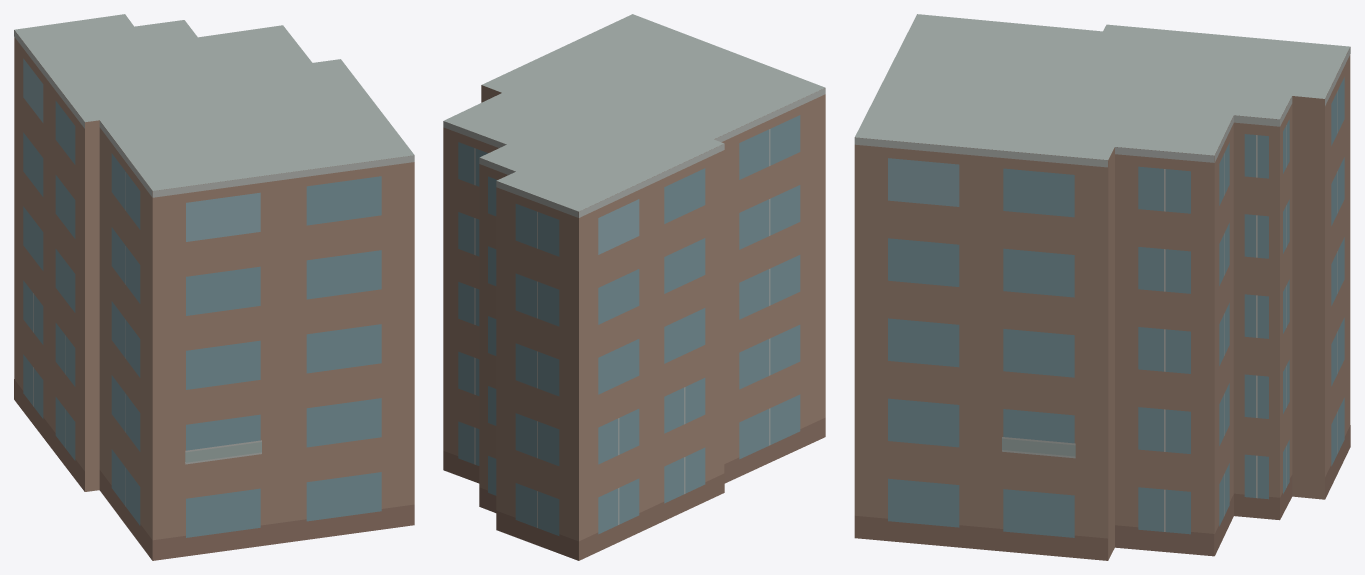
File: survey-upis-32661545.glb
3 renders of one model, left to right at view 1: azimuth 30°, elevation 25°; view 2: azimuth 150°, elevation 25°; view 3: azimuth 270°, elevation 25°, orthographic. The views are drawn at different scales.
Visible parts, largest first — view 1: survey-upis-32661545.tmp; view 2: survey-upis-32661545.tmp; view 3: survey-upis-32661545.tmp.
Part boxes in pixels (x1,y1,x2,y2): survey-upis-32661545.tmp: (14, 14, 414, 560); survey-upis-32661545.tmp: (443, 14, 825, 560); survey-upis-32661545.tmp: (854, 14, 1350, 560).
Size of the model in its own units: 10.41 by 13.3 by 14.92.
